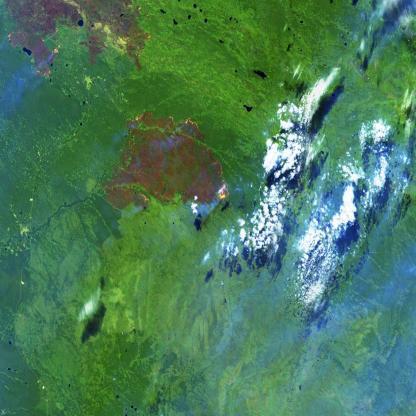fire: (6, 20, 61, 88), (117, 0, 157, 68), (206, 150, 236, 219), (166, 101, 206, 141), (126, 105, 147, 134)
